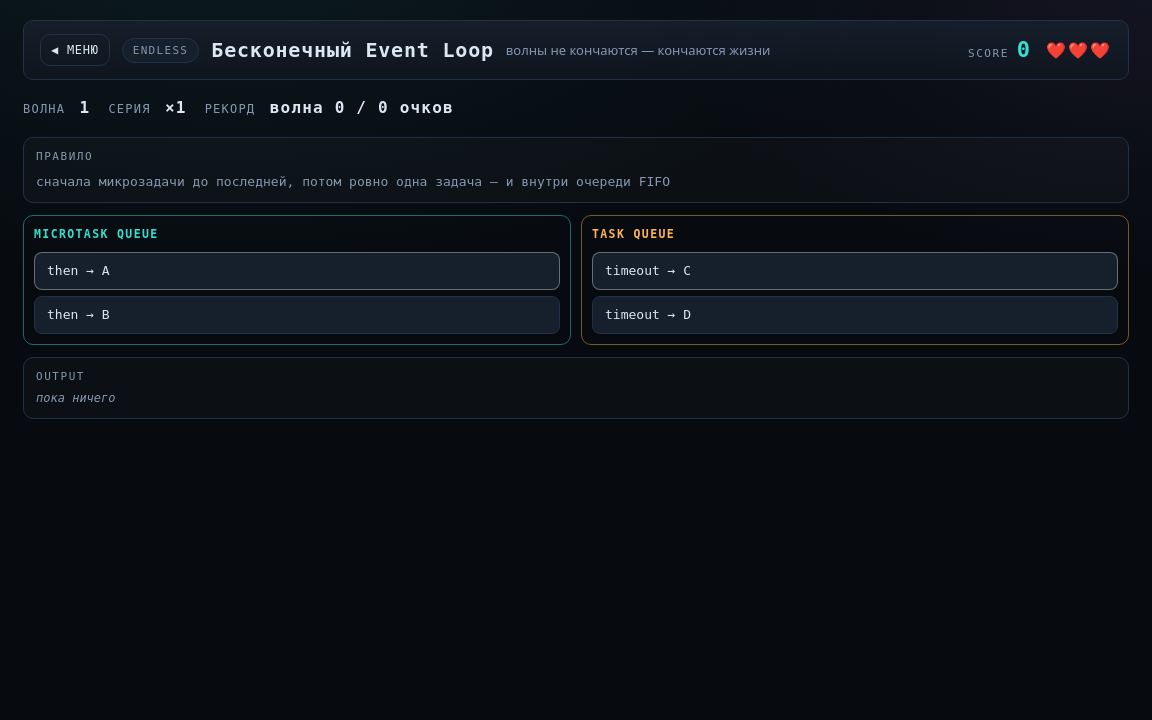
it: экран бесконечного режима › конец забега › три нарушения заканчивают забег и подводят итог
The width and height of the screenshot is (1152, 720).
Click the button with class "chip" showing "timeout → C" at point(648, 270), box [592,252,1118,290]
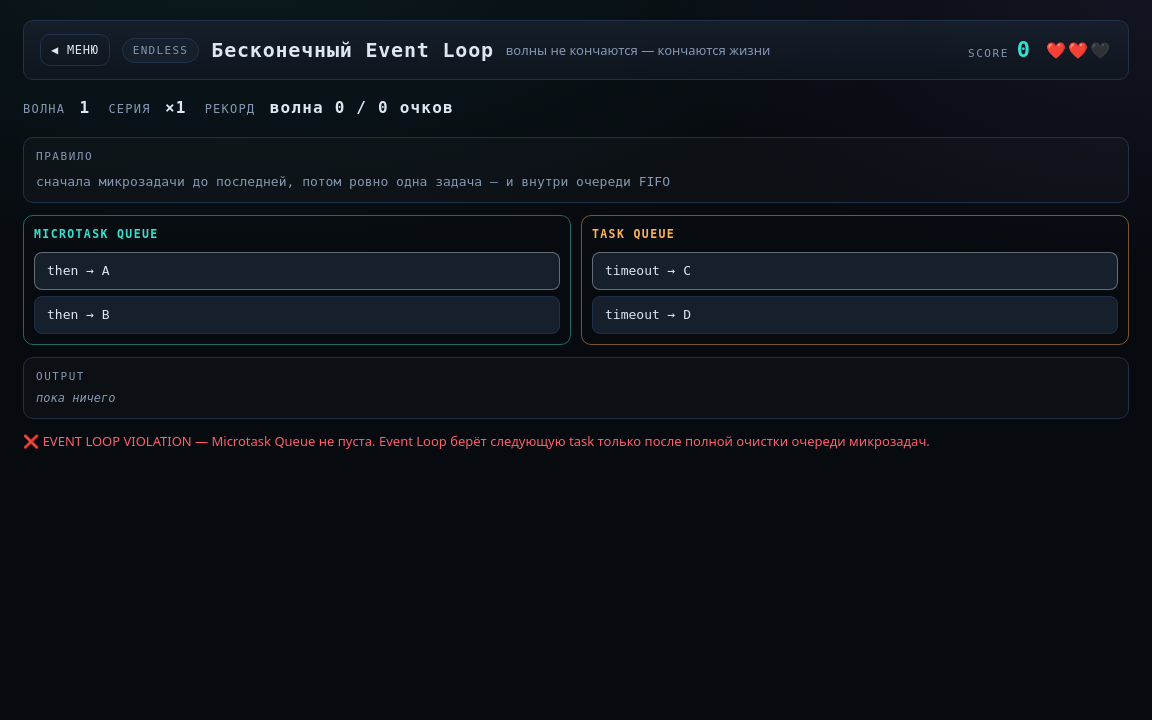
Click the button with class "chip" showing "timeout → C" at point(648, 270), box [592,252,1118,290]
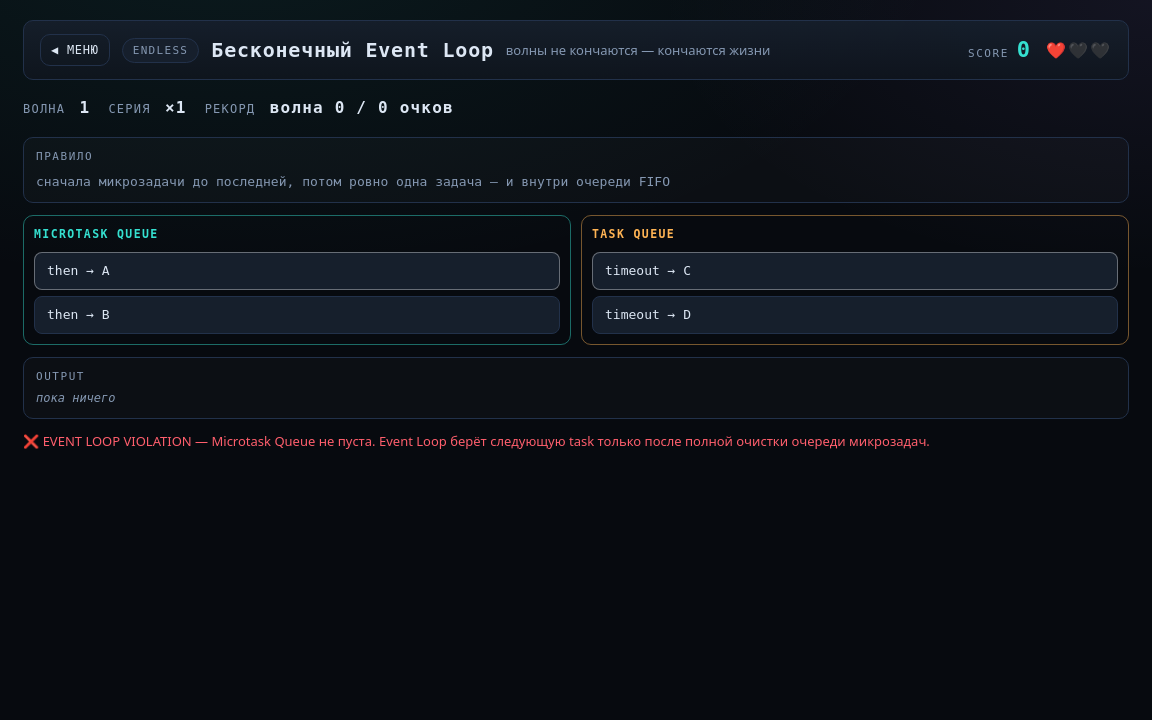
Click the button with class "chip" showing "timeout → C" at point(648, 270), box [592,252,1118,290]
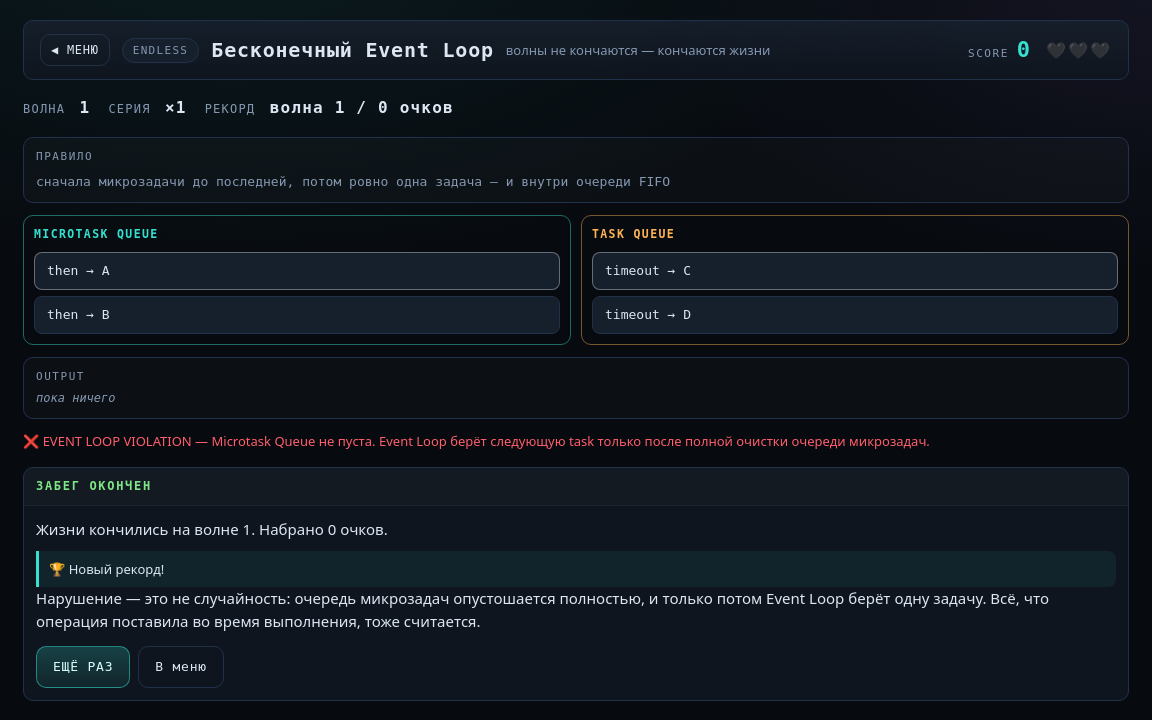
expect the heading "Забег окончен" is shown: met, box [36,477,152,496]
expect the text "Жизни кончились на волне 1. Набрано 0 очков." is shown: met, box [36,519,388,539]
expect the element named "Жизни: 0 из 3" is shown: met, box [1046,38,1112,62]
